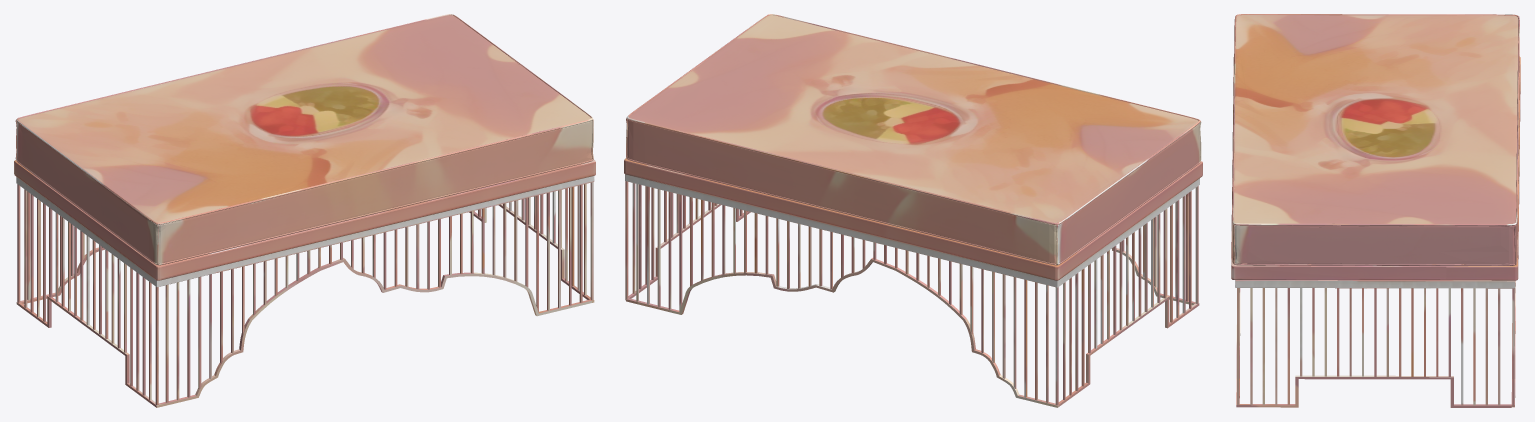
The model's file is edited_mesh.glb.
3 renders of one model, left to right at view 1: azimuth 30°, elevation 25°; view 2: azimuth 150°, elevation 25°; view 3: azimuth 270°, elevation 25°, orthographic.
Parts seen in each view (by area): view 1: solid_001_wire; view 2: solid_001_wire; view 3: solid_001_wire.
Boxes of the visible parts, bbox=[...] form: solid_001_wire: bbox=[14, 14, 595, 407]; solid_001_wire: bbox=[624, 14, 1202, 407]; solid_001_wire: bbox=[1231, 14, 1520, 407].
Bounding box in the file's own units: 2 × 0.8071 × 1.16.
1 material, 1 textured.
